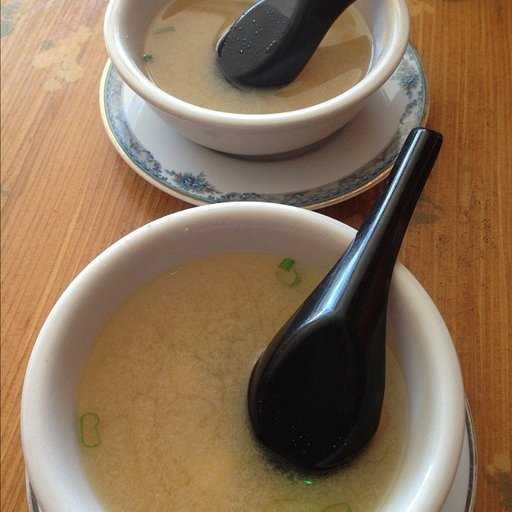soup: (1, 259, 450, 501)
